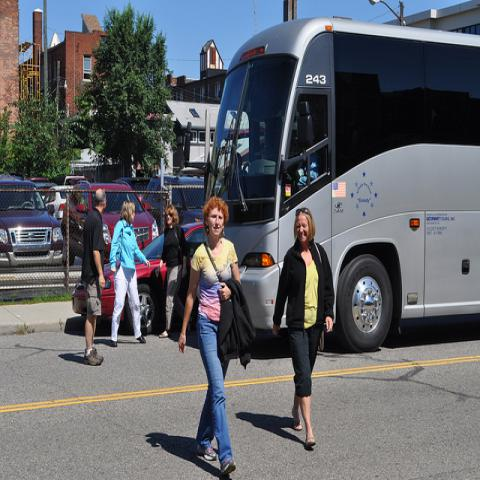bus: (201, 19, 479, 354)
car: (71, 218, 208, 336), (61, 178, 159, 264), (141, 174, 204, 236), (44, 186, 74, 226), (32, 182, 58, 200)
truck: (0, 179, 65, 268)
